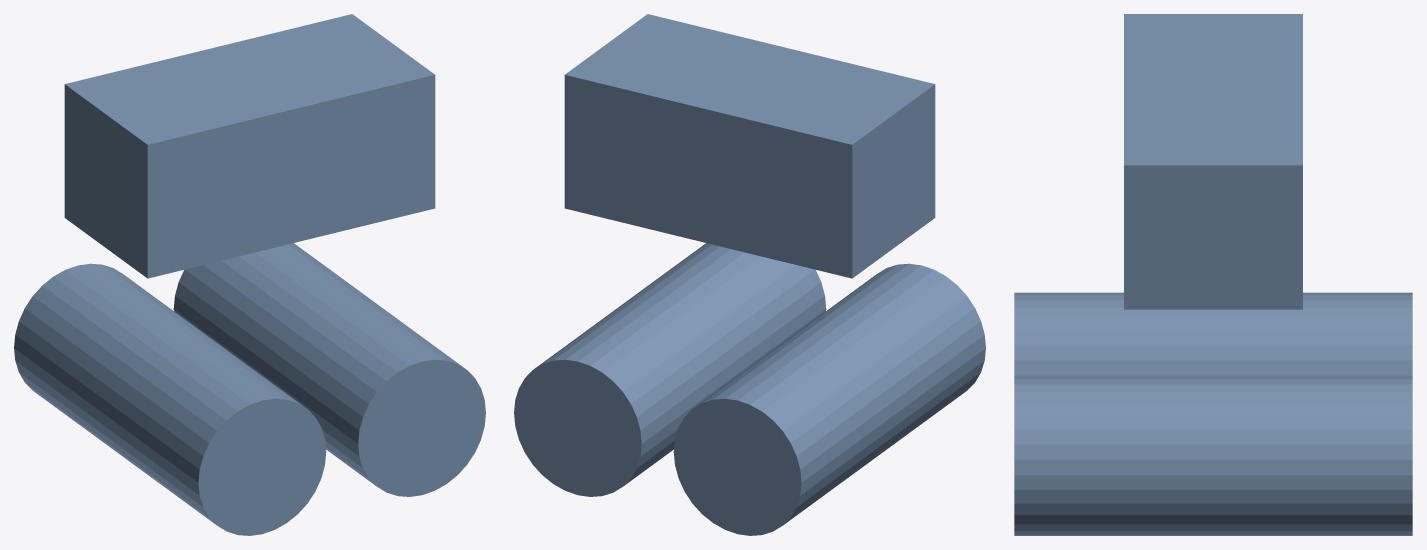
The model's file is fallback_3d_45968559.glb.
3 views of the same model, side by side, from view 1: azimuth 30°, elevation 25°; view 2: azimuth 150°, elevation 25°; view 3: azimuth 270°, elevation 25° (orthographic). The views are drawn at different scales.
Parts seen in each view (by area): view 1: geometry_0; view 2: geometry_0; view 3: geometry_0.
Part boxes in pixels (x1=…): geometry_0: x1=14, y1=14, x2=485, y2=535; geometry_0: x1=514, y1=14, x2=985, y2=535; geometry_0: x1=1014, y1=14, x2=1412, y2=535.
Bounding box in the file's own units: 0.9 × 1.1 × 1.
